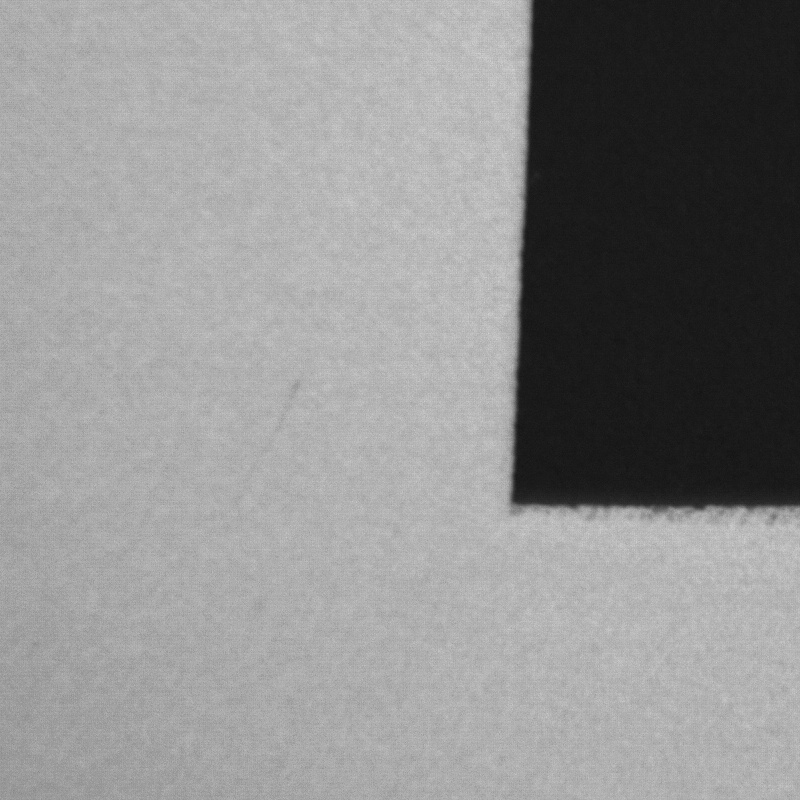defect: (235, 382, 302, 496)
